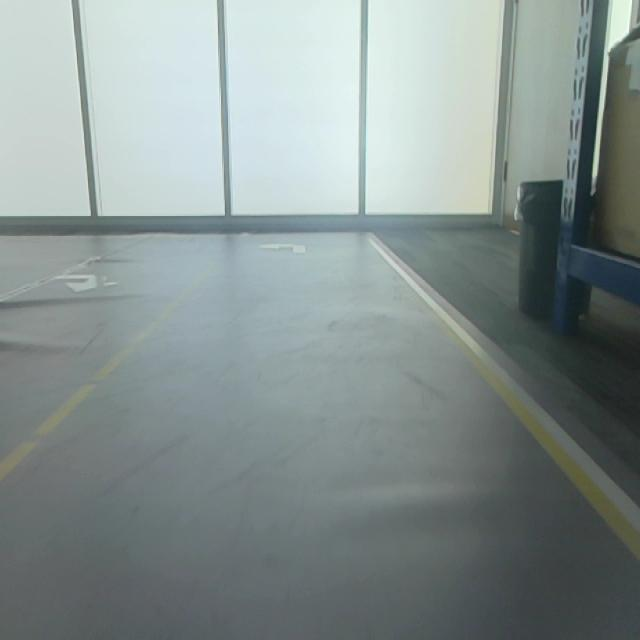left_lane: (0, 263, 221, 480)
right_lane: (368, 240, 640, 569)
